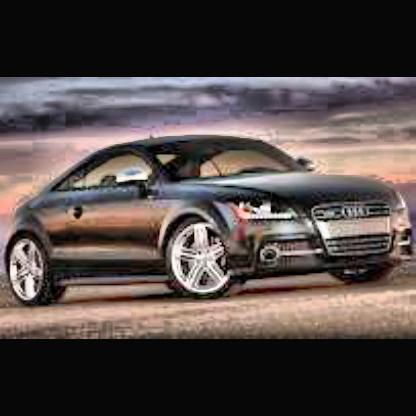Audi TTS Coupe 2012: (3, 130, 412, 306)
